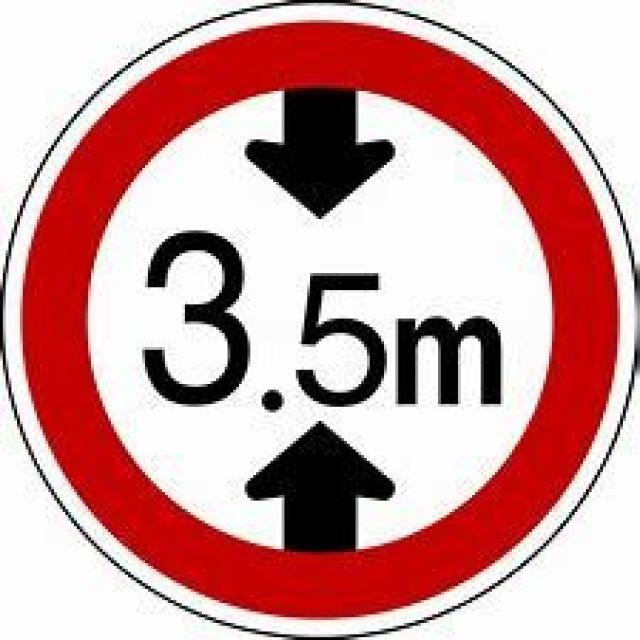height limit: (18, 12, 623, 618)
